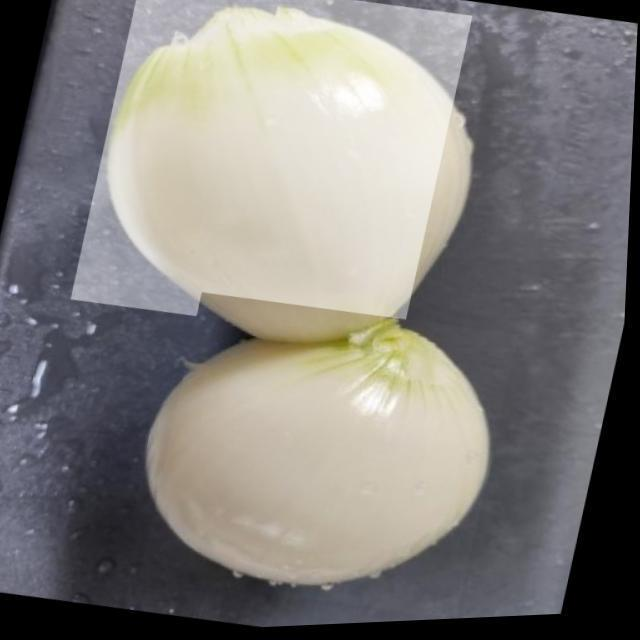Onion: (70, 0, 473, 358), (143, 283, 524, 634)
